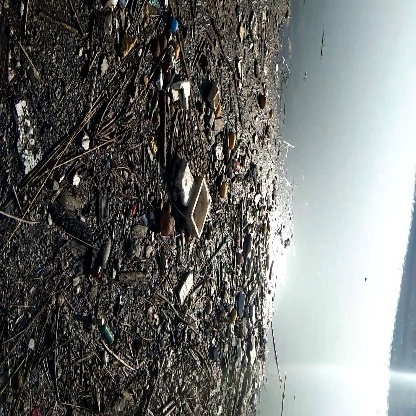plastic-garbage: (175, 165, 219, 253)
